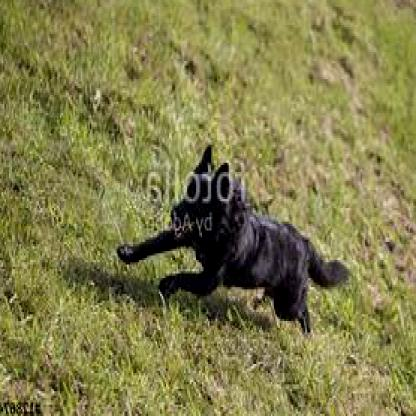dog: (115, 142, 349, 335)
